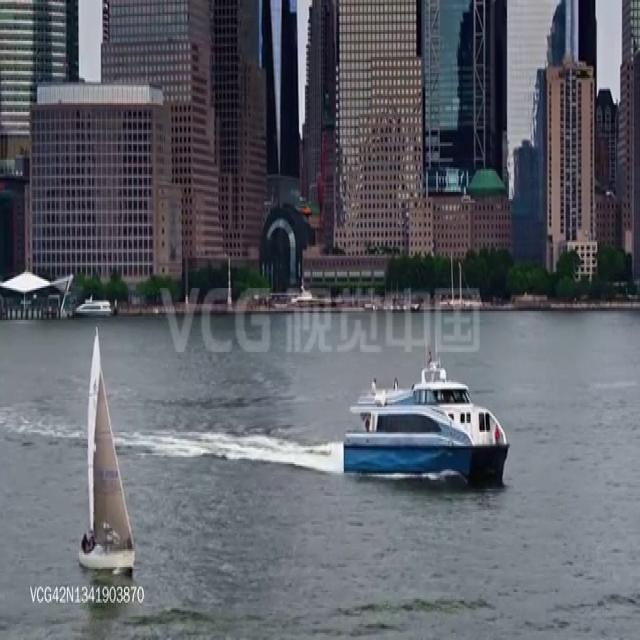houseboat: (340, 362, 510, 480), (72, 293, 116, 316)
sailboat: (73, 332, 140, 576)
